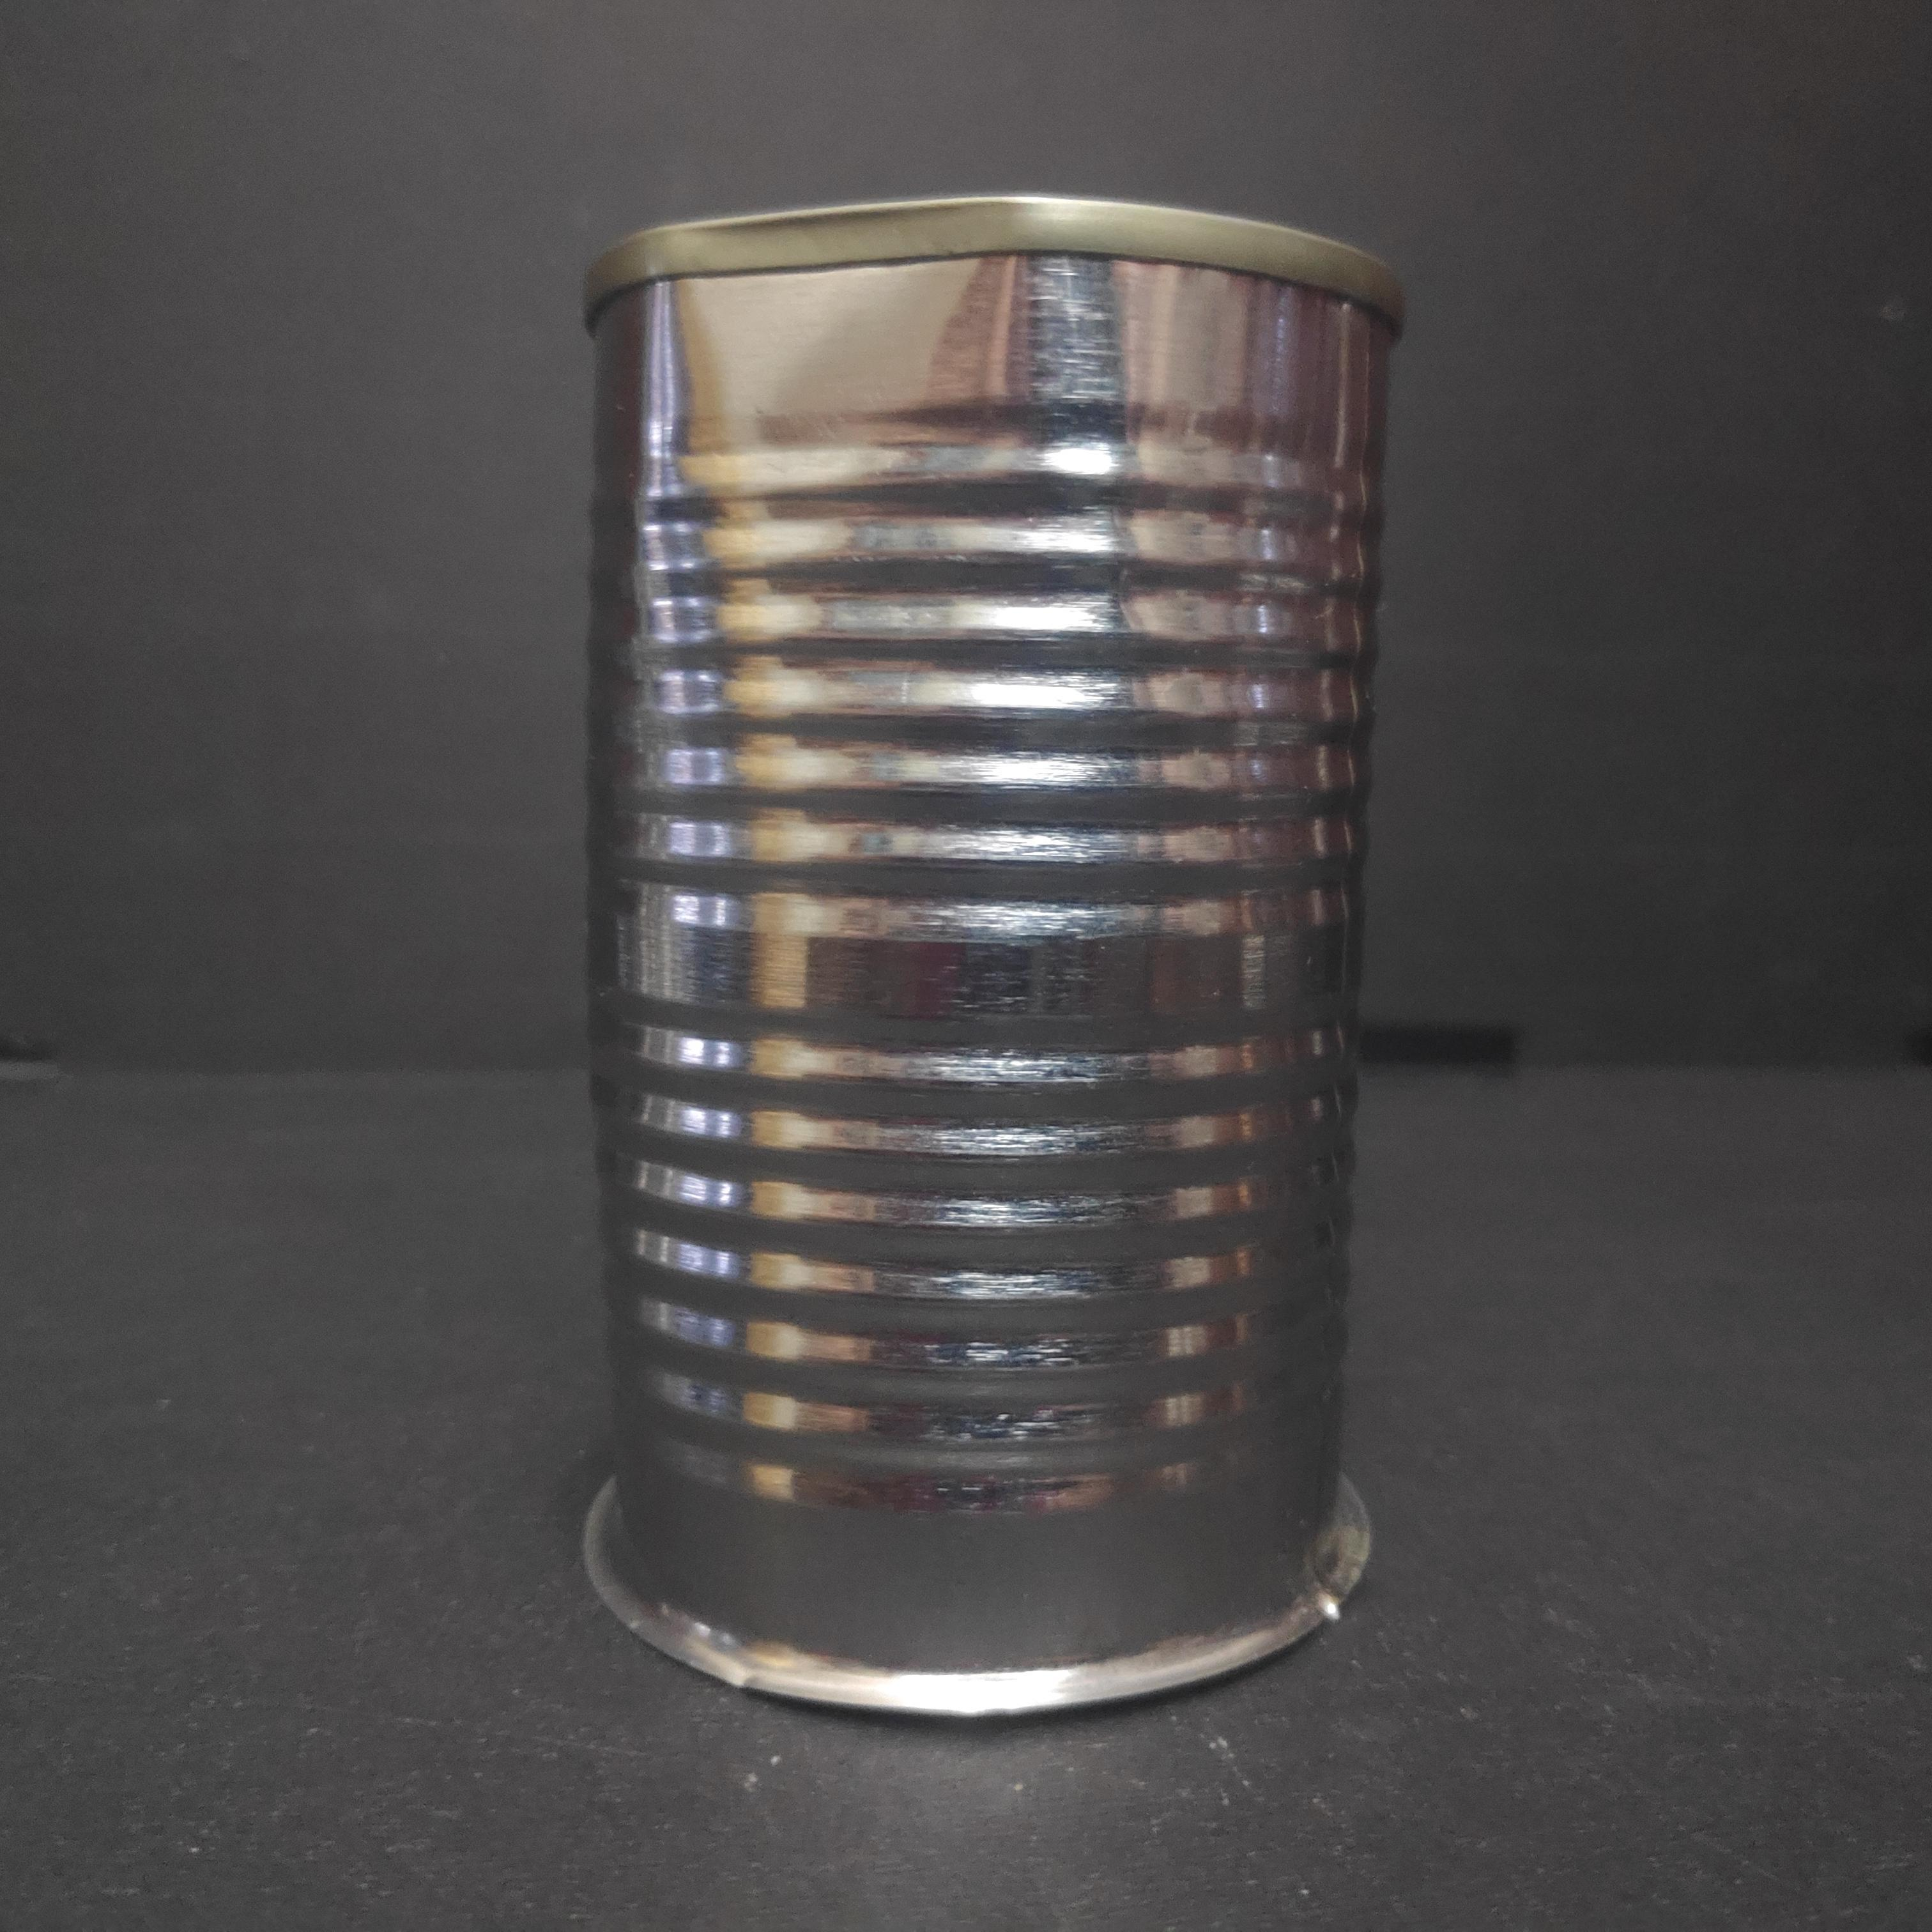Dented: (540, 179, 1408, 1718)
